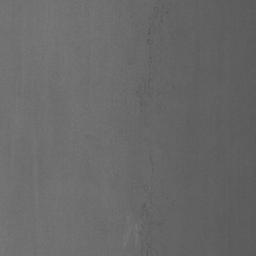Silk spot: (141, 237, 151, 256), (140, 203, 149, 217)
